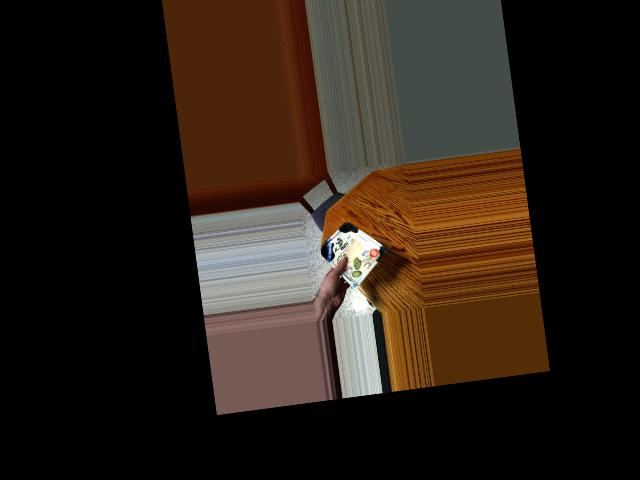cheese: (321, 226, 382, 272)
